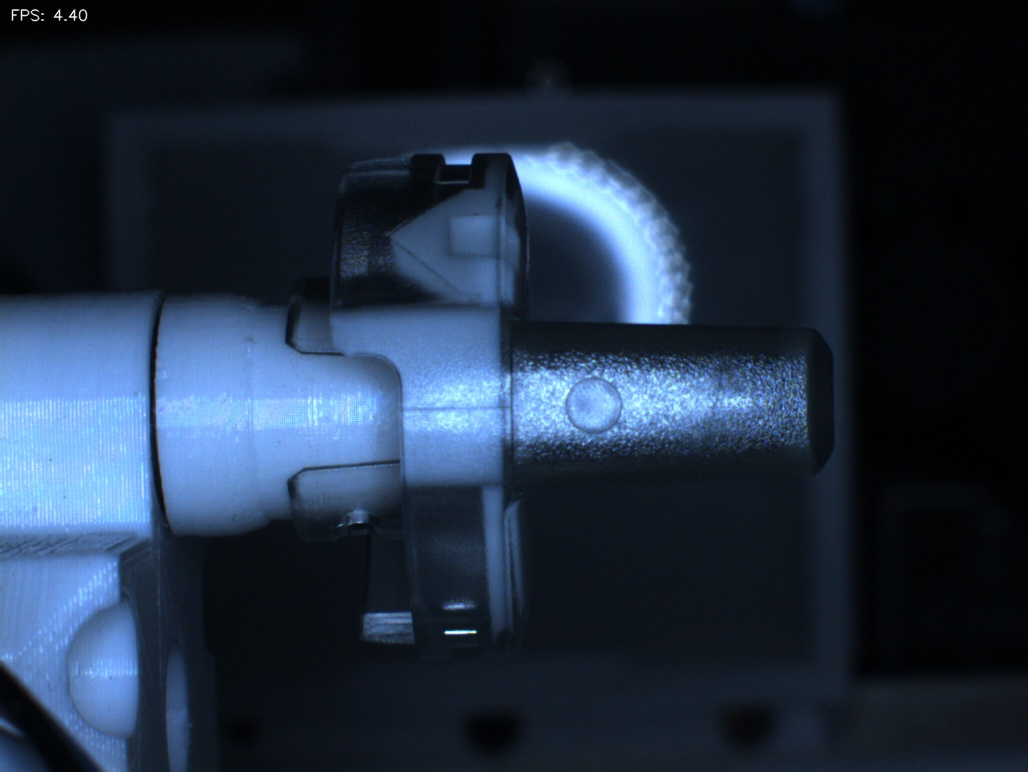DentOk: (356, 207, 438, 300)
